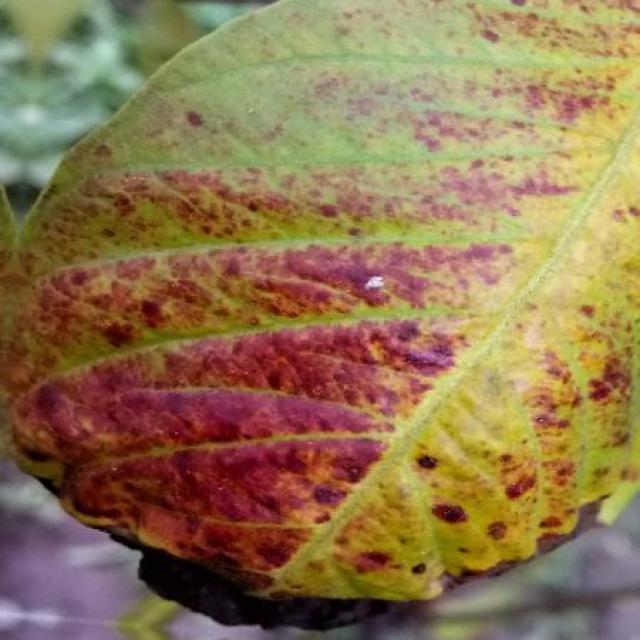Red Rust: (0, 0, 640, 600)
